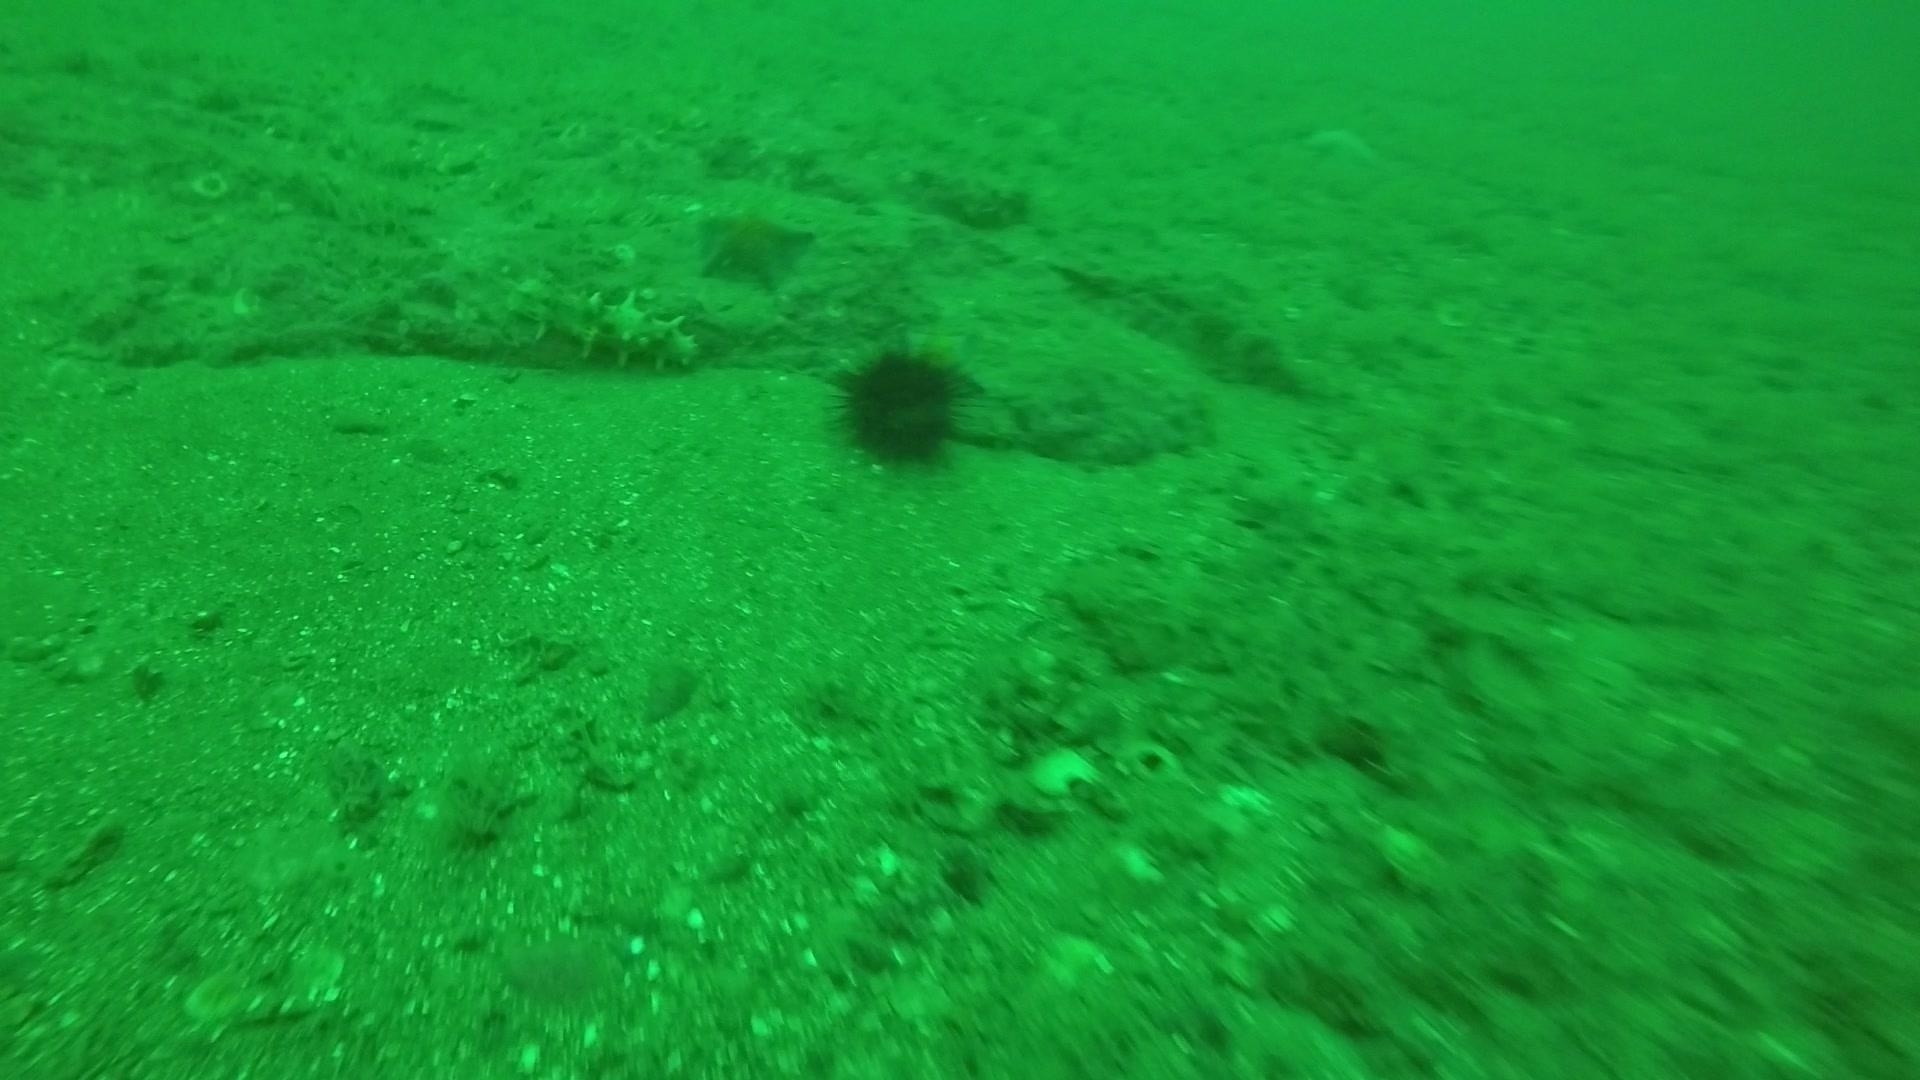echinus: (824, 335, 978, 475)
holothurian: (487, 266, 707, 378)
starfish: (690, 198, 820, 294), (1299, 120, 1387, 179)
